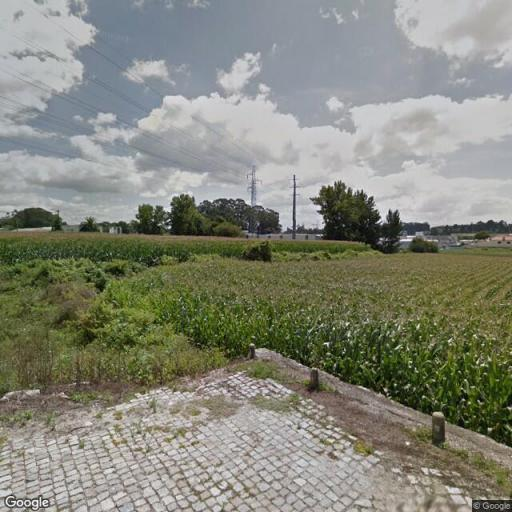mono_9: (290, 174, 300, 240)
ss_4: (244, 163, 262, 233)
